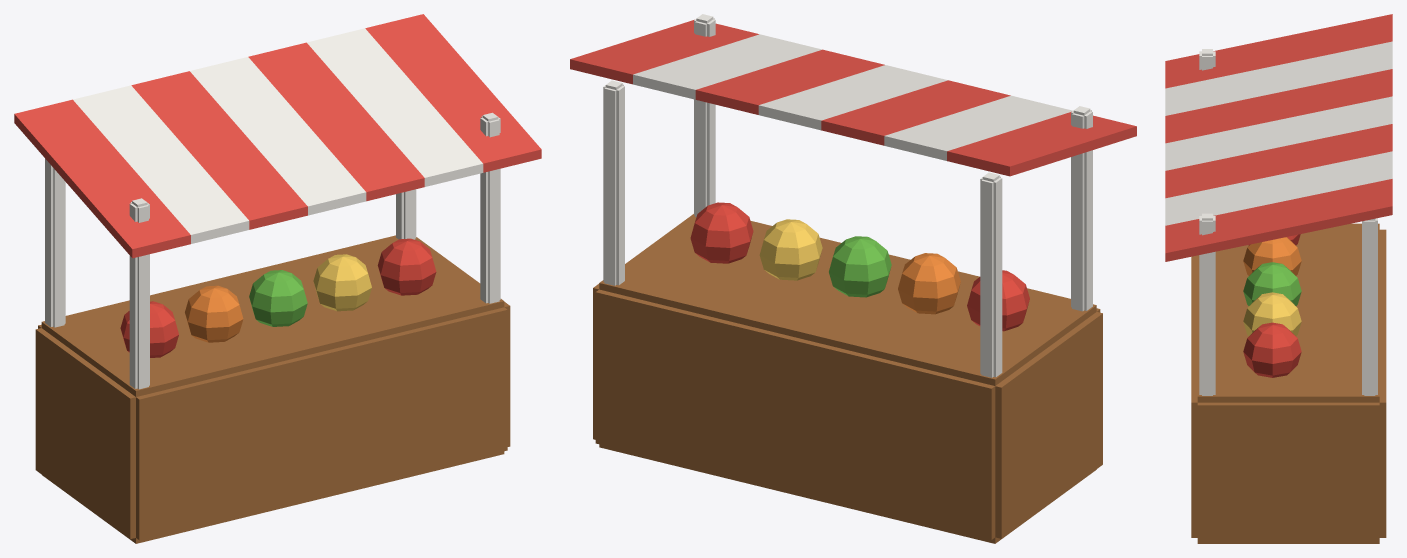
The model's file is market_stall.glb.
3 views of the same model, side by side, from view 1: azimuth 30°, elevation 25°; view 2: azimuth 150°, elevation 25°; view 3: azimuth 270°, elevation 25° (orthographic). The views are drawn at different scales.
Visible parts, largest first — view 1: market_stall; view 2: market_stall; view 3: market_stall.
Part boxes in pixels (<box>): market_stall: <box>14,14,541,543</box>; market_stall: <box>570,14,1136,543</box>; market_stall: <box>1165,14,1392,543</box>.
Bounding box in the file's own units: 1.4 × 1.18 × 0.7.
